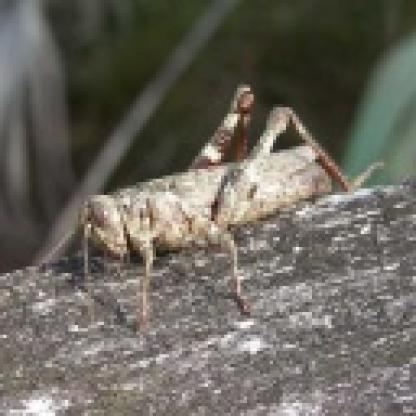grasshopper: (57, 90, 364, 288)
